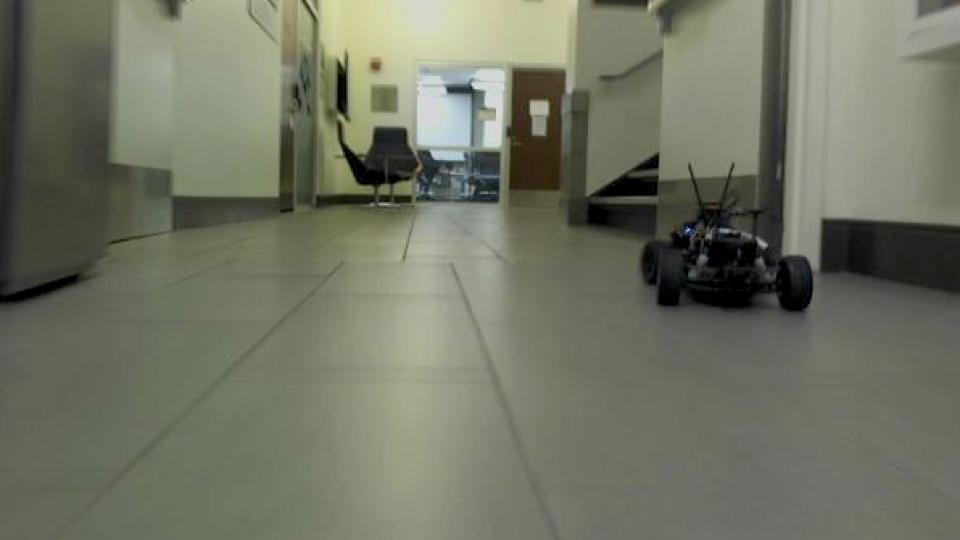car: (638, 158, 818, 314)
